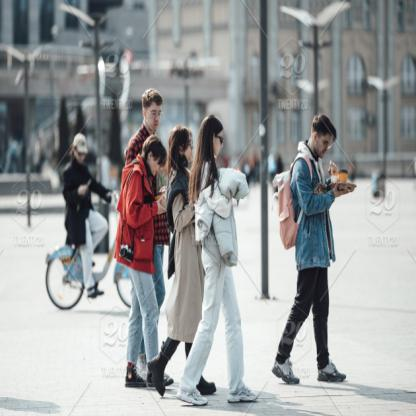person: (274, 114, 344, 384), (187, 115, 240, 406), (117, 134, 168, 390), (165, 124, 198, 400), (64, 131, 104, 296), (140, 88, 164, 137)
